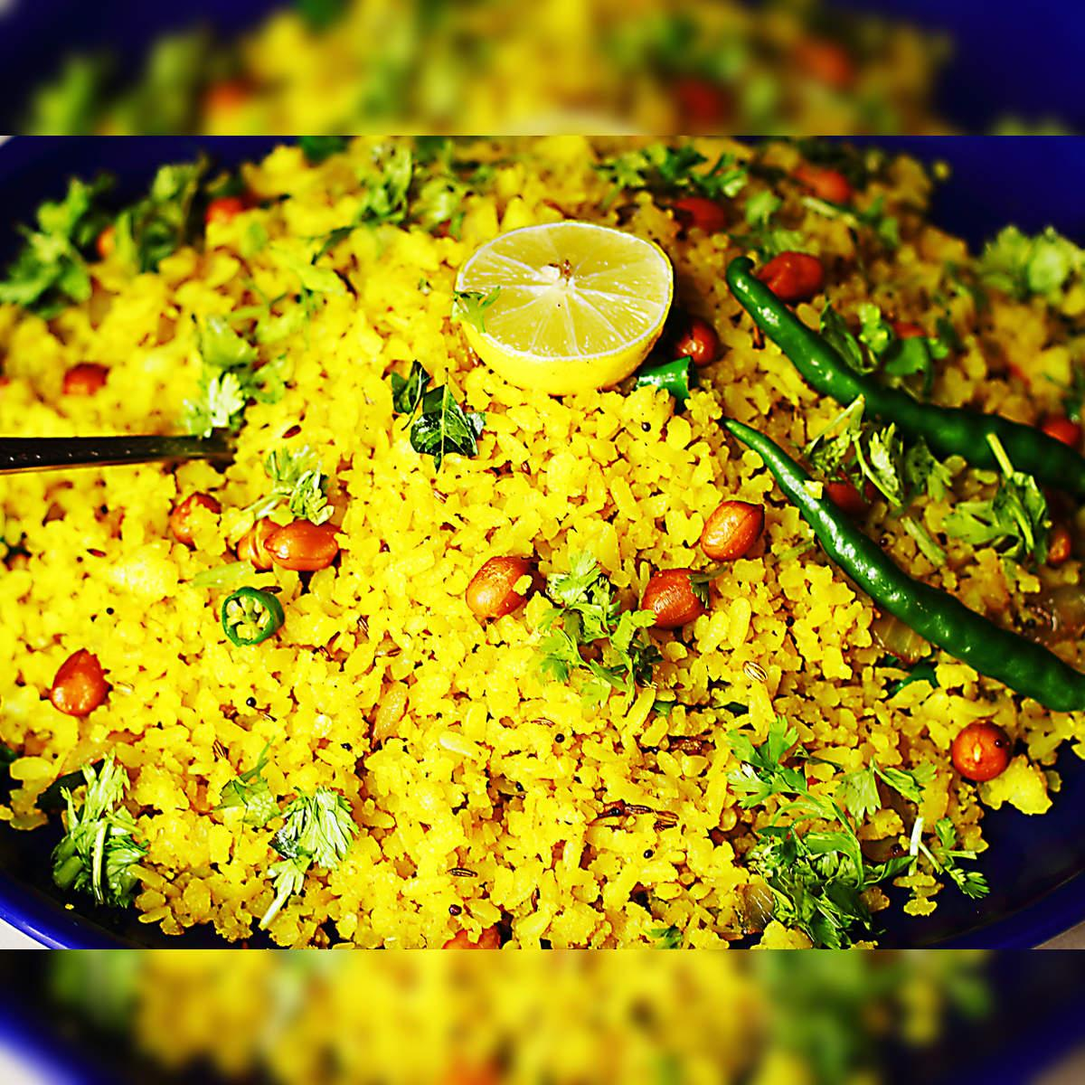poha: (16, 140, 1085, 945)
